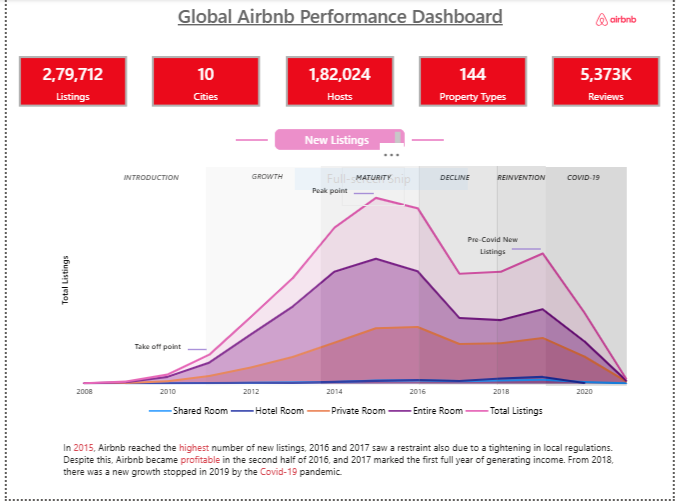

What the dashboard file says about the page in this screenshot:
{"tool":"powerbi","page":{"name":"Overview","canvas":[960,720],"ordinal":0},"visuals":[{"type":"textbox","box":[112.1,0,735.8,59],"z":0},{"type":"image","box":[794.9,0,165.6,59],"z":1000},{"type":"card","fields":{"Values":["CountNonNull(Listings.listing_id)"]},"box":[17.3,82.1,155.5,73.4],"z":2000},{"type":"card","fields":{"Values":["Count(Listings.city)"]},"box":[209.2,82.1,155.5,73.4],"z":3000},{"type":"card","fields":{"Values":["Count(Reviews.review_id)"]},"box":[784.8,82.1,155.5,73.4],"z":4000},{"type":"card","fields":{"Values":["Count(Listings.property_type)"]},"box":[592.9,82.1,155.5,73.4],"z":5000},{"type":"card","fields":{"Values":["Count(Listings.host_id)"]},"box":[401,82.1,155.5,73.4],"z":6000},{"type":"lineChart","fields":{"Category":["Listings.host_since.Variation.Date Hierarchy.Year"],"Y":["Listings.Shared Room","Listings.Hotel Room","Listings.Private Room","Listings.Entire Room","CountNonNull(Listings.listing_id)"]},"box":[73.4,241.9,835.2,370.1],"z":7000},{"type":"textbox","box":[385.9,187.2,187.2,30.2],"z":8000},{"type":"shape","box":[329.8,164.2,46.1,77.8],"z":9000},{"type":"shape","box":[583.2,164.2,46.1,77.8],"z":10000},{"type":"shape","box":[108,241.9,178.6,315.4],"z":11000},{"type":"textbox","box":[141.1,241.9,133.9,34.6],"z":12000},{"type":"shape","box":[286.6,241.9,165.6,315.4],"z":13000},{"type":"shape","box":[452.2,240.5,142.6,315.4],"z":14000},{"type":"shape","box":[593.3,240.5,113.8,315.4],"z":15000},{"type":"shape","box":[776.2,241.9,116.6,315.4],"z":16000},{"type":"shape","box":[705.6,240.5,70.6,315.4],"z":17000},{"type":"textbox","box":[329.8,240.5,90.7,36],"z":18000},{"type":"textbox","box":[482.4,241.9,90.7,56.2],"z":19000},{"type":"textbox","box":[614.9,241.9,60.5,56.2],"z":20000},{"type":"textbox","box":[689.8,241.9,102.2,33.1],"z":21000},{"type":"textbox","box":[794.9,241.9,70.6,37.4],"z":22000},{"type":"shape","box":[499.7,260.6,28.8,38.9],"z":23000},{"type":"shape","box":[727.2,349.9,41.8,20.2],"z":24000},{"type":"shape","box":[260.6,466.6,27.4,76.3],"z":25000},{"type":"textbox","box":[161.3,485.3,112.3,38.9],"z":26000},{"type":"textbox","box":[430.6,260.6,69.1,46.1],"z":27000},{"type":"textbox","box":[658.1,331.2,83.5,57.6],"z":28000},{"type":"textbox","box":[76.3,632.2,816.5,66.2],"z":29000}]}

Visuals, with their boxes in screenshot pixels (x1, y1, x2, y2), scaled from the page's 960x720 canvas onto the 676x502 screenshot:
textbox: (x1=79, y1=0, x2=597, y2=41)
image: (x1=560, y1=0, x2=675, y2=41)
card - CountNonNull(Listings.listing_id): (x1=12, y1=57, x2=122, y2=108)
card - Count(Listings.city): (x1=147, y1=57, x2=257, y2=108)
card - Count(Reviews.review_id): (x1=553, y1=57, x2=662, y2=108)
card - Count(Listings.property_type): (x1=418, y1=57, x2=527, y2=108)
card - Count(Listings.host_id): (x1=282, y1=57, x2=392, y2=108)
lineChart - Listings.host_since.Variation.Date Hierarchy.Year x Listings.Shared Room: (x1=52, y1=169, x2=640, y2=427)
textbox: (x1=272, y1=131, x2=404, y2=152)
shape: (x1=232, y1=114, x2=265, y2=169)
shape: (x1=411, y1=114, x2=443, y2=169)
shape: (x1=76, y1=169, x2=202, y2=389)
textbox: (x1=99, y1=169, x2=194, y2=193)
shape: (x1=202, y1=169, x2=318, y2=389)
shape: (x1=318, y1=168, x2=419, y2=388)
shape: (x1=418, y1=168, x2=498, y2=388)
shape: (x1=547, y1=169, x2=629, y2=389)
shape: (x1=497, y1=168, x2=547, y2=388)
textbox: (x1=232, y1=168, x2=296, y2=193)
textbox: (x1=340, y1=169, x2=404, y2=208)
textbox: (x1=433, y1=169, x2=476, y2=208)
textbox: (x1=486, y1=169, x2=558, y2=192)
textbox: (x1=560, y1=169, x2=609, y2=195)
shape: (x1=352, y1=182, x2=372, y2=209)
shape: (x1=512, y1=244, x2=542, y2=258)
shape: (x1=184, y1=325, x2=203, y2=379)
textbox: (x1=114, y1=338, x2=193, y2=365)
textbox: (x1=303, y1=182, x2=352, y2=214)
textbox: (x1=463, y1=231, x2=522, y2=271)
textbox: (x1=54, y1=441, x2=629, y2=487)
